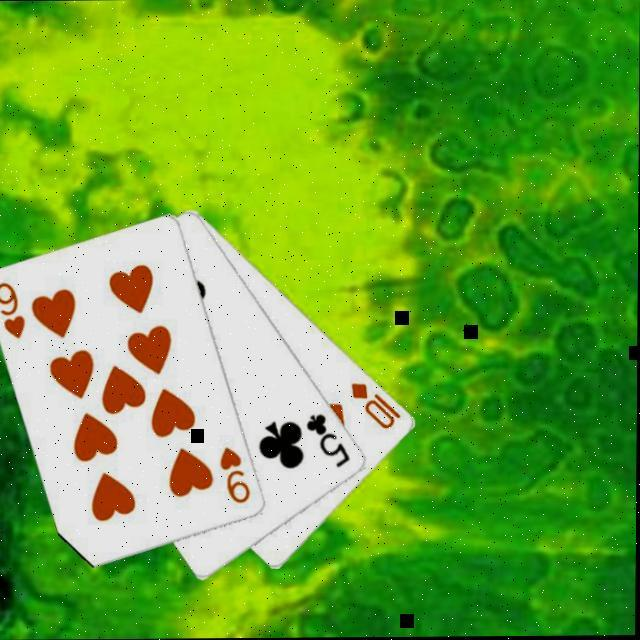10D: (348, 381, 403, 433)
5C: (303, 412, 354, 472)
9H: (216, 445, 253, 507), (0, 280, 28, 342)
